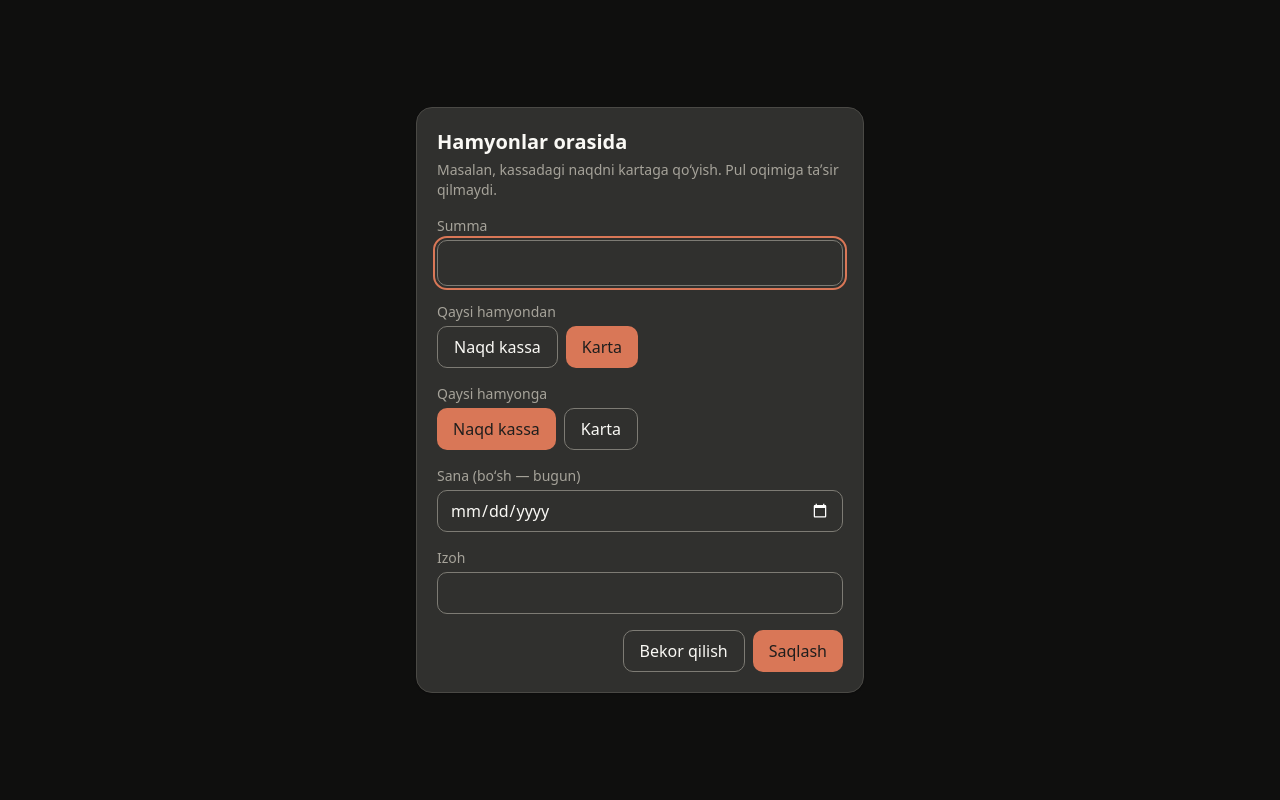
Test: Kasb-kor › hamyonlar orasida: bir xil hamyon — yadro xatosi koʻrsatiladi
The width and height of the screenshot is (1280, 800).
Type "300 000" into the field labelled "Summa" at (640, 263), box [437,240,843,286]
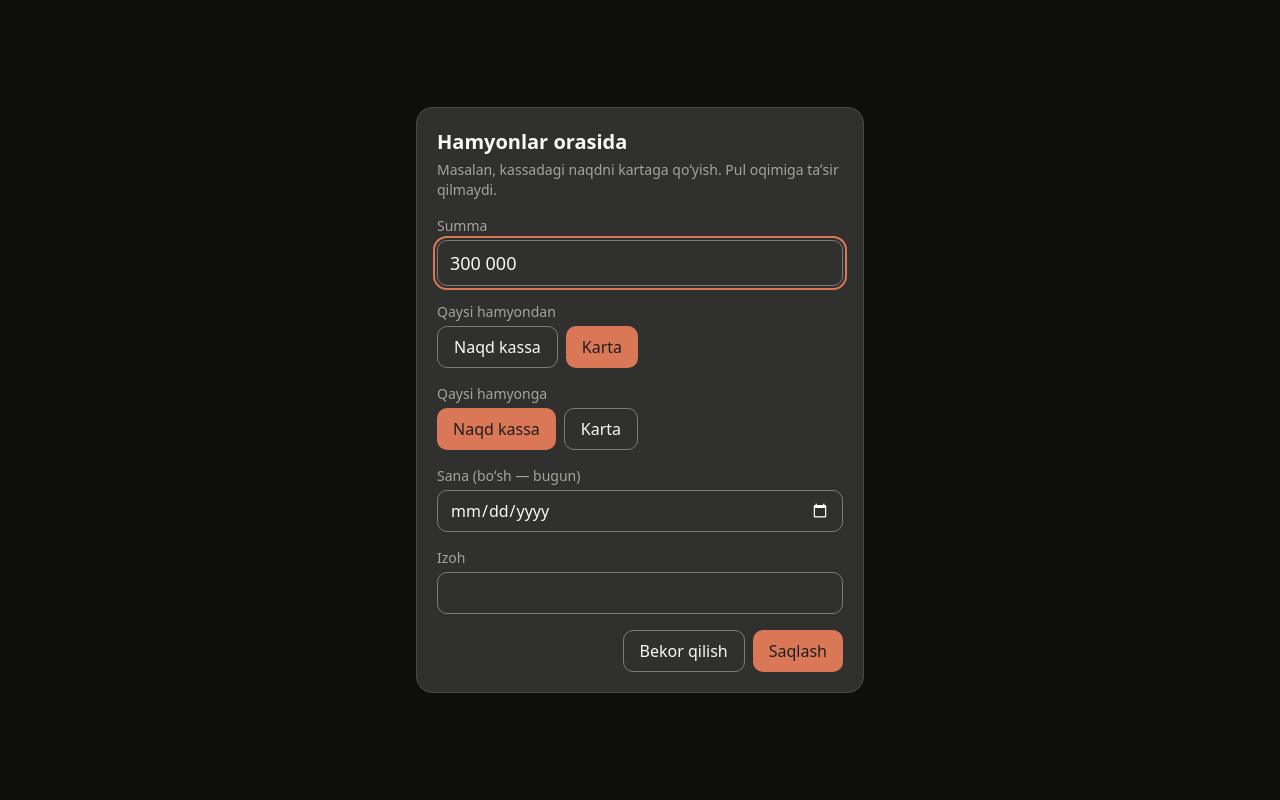
Click the button "Karta" below "Qaysi hamyonga" at (601, 429), box [564,408,638,450]
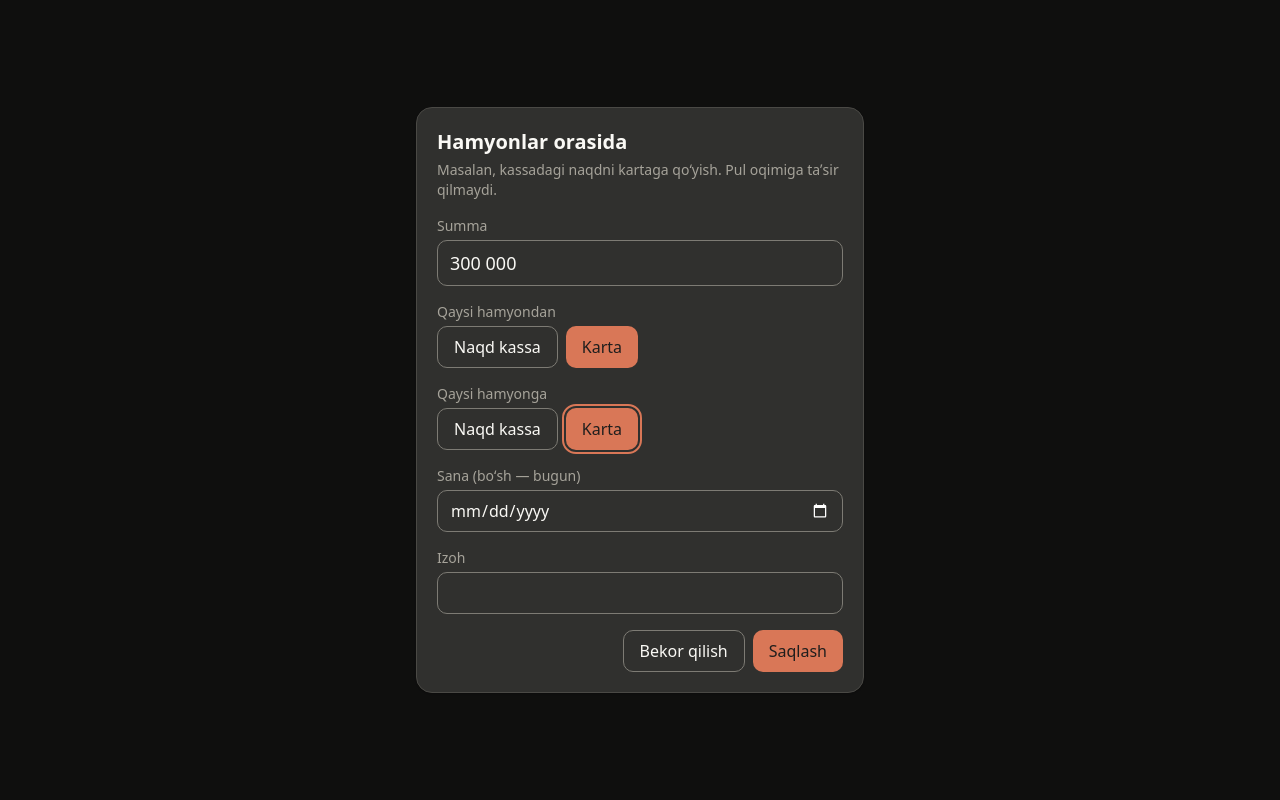
Click the button "Saqlash" at (798, 651), box [753,630,843,672]
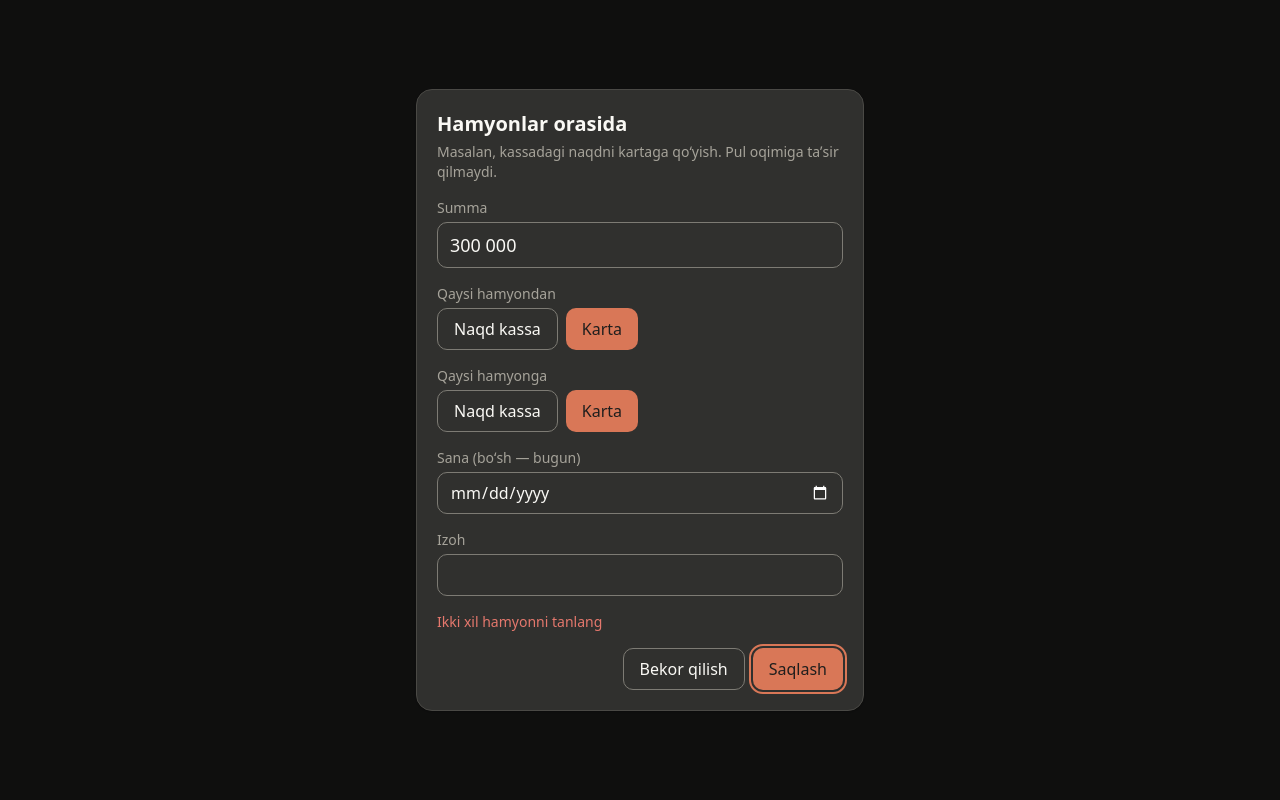
Check: the message reads "Ikki xil hamyonni tanlang", box [437,612,602,631]
